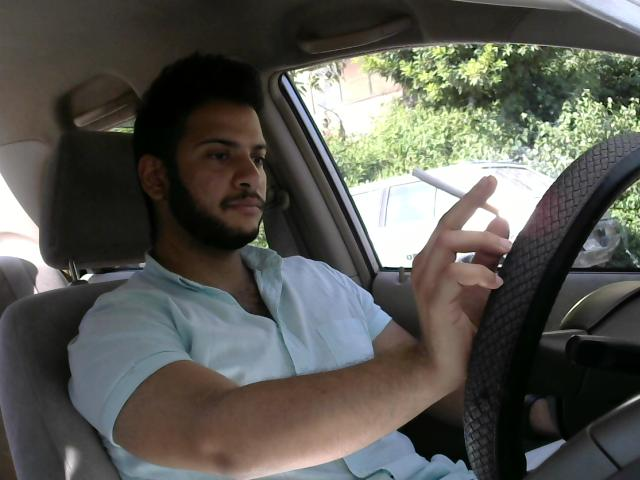Smoking: (404, 163, 501, 222)
